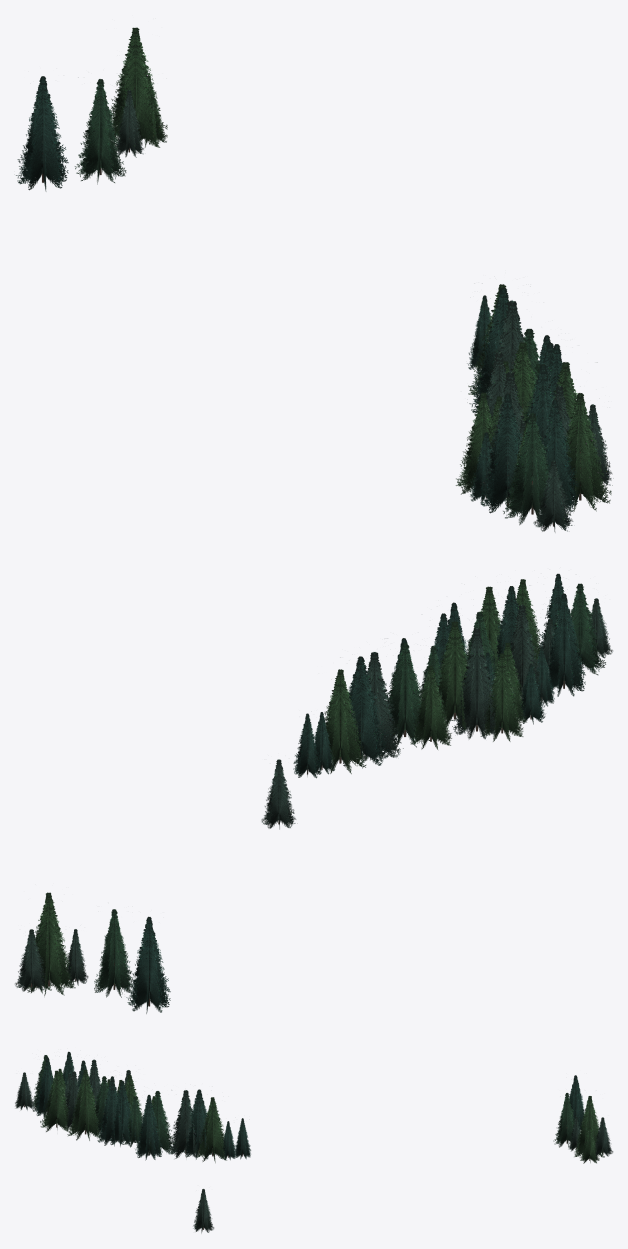
Rendered from pines_1_0.glb.
3 views of the same model, one above another, from view 1: azimuth 30°, elevation 25°; view 2: azimuth 150°, elevation 25°; view 3: azimuth 270°, elevation 25° (orthographic). The views are drawn at different scales.
Parts seen in each view (by area): view 1: f; view 2: f; view 3: f.
Part boxes in pixels (<box>): f: <box>16,27,613,532</box>; f: <box>15,573,612,1013</box>; f: <box>15,1051,613,1233</box>.
Size of the model in its own units: 28.74 by 25.69 by 110.
Materials: 1 (1 with a texture image).
